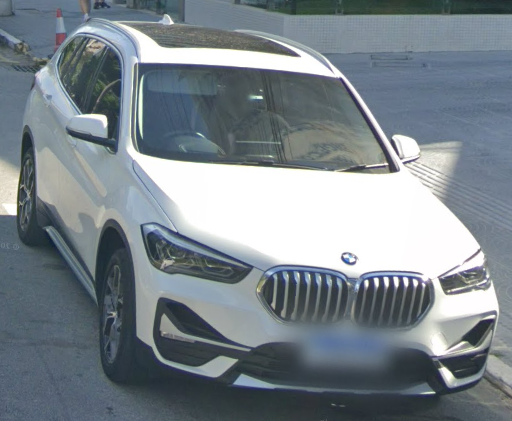car: (17, 15, 501, 399)
